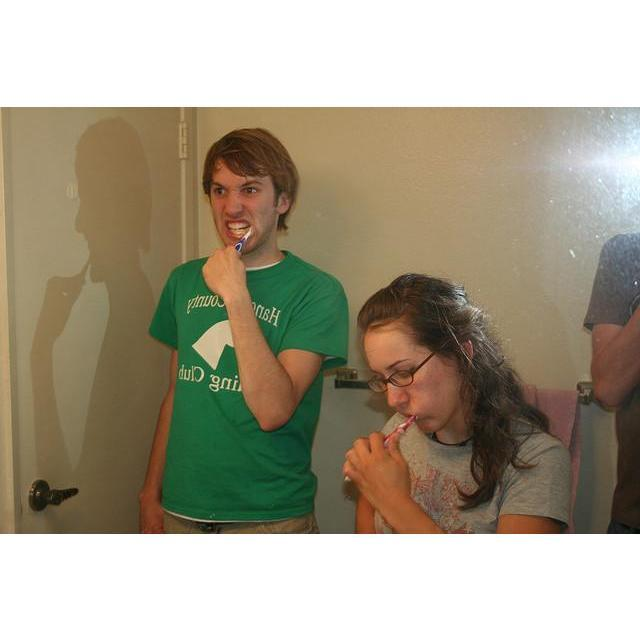toothbrush: (384, 415, 416, 447), (233, 226, 251, 250)
